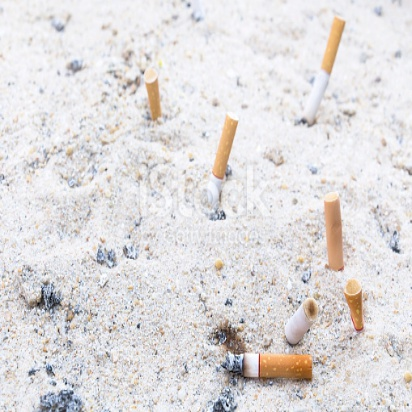cigarette: (294, 17, 351, 131), (205, 111, 241, 222), (214, 349, 314, 384), (318, 191, 350, 272), (280, 293, 318, 347), (341, 277, 367, 338), (142, 72, 167, 122)
